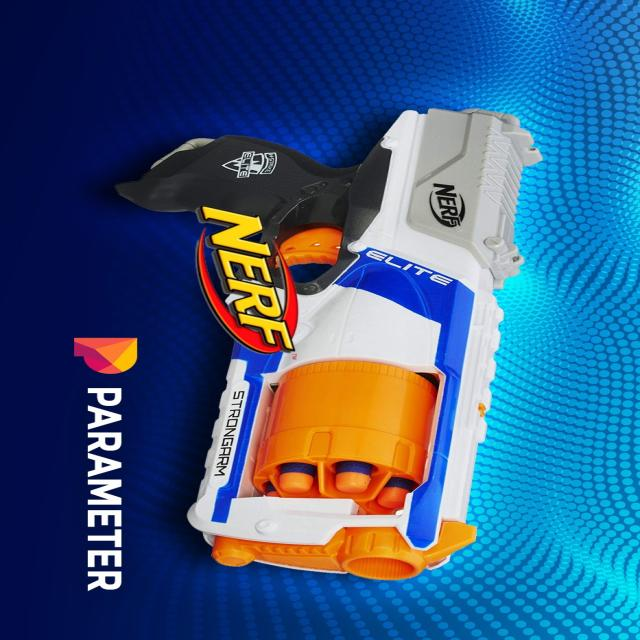Nerf gun: (95, 93, 552, 581)
